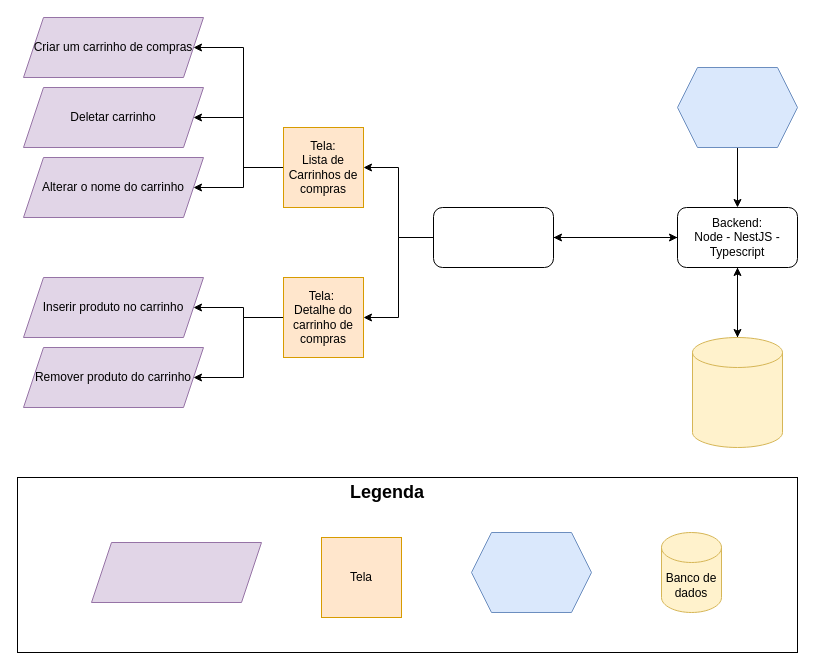
The diagram is 815 pixels wide and 670 high, and some of its shapes have lost their labels. Each missing label, with the centre of its shape:
"Api / microsserviço" belongs at [531,572].
"Ações que o usuário pode executar" belongs at [176,572].
"Frontend: React - Typescript" belongs at [493,237].
"Json server: Simula uma outra API/microsserviço para envio dos produtos" belongs at [737,107].
"Sqlite: Salvar carrinho e produtos" belongs at [737,392].
